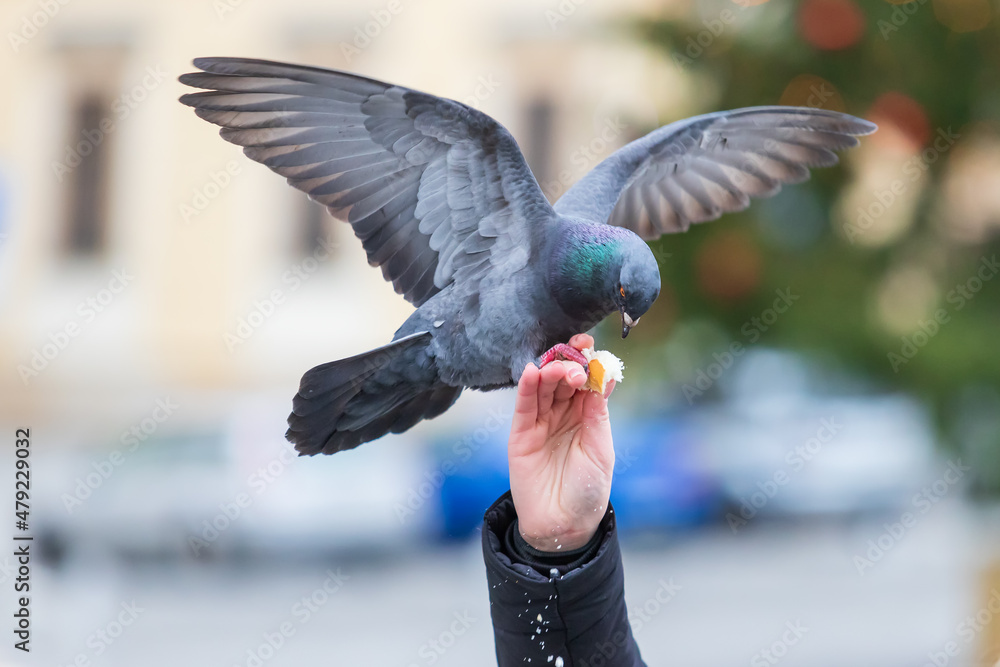Flying Rat: (172, 50, 895, 393)
